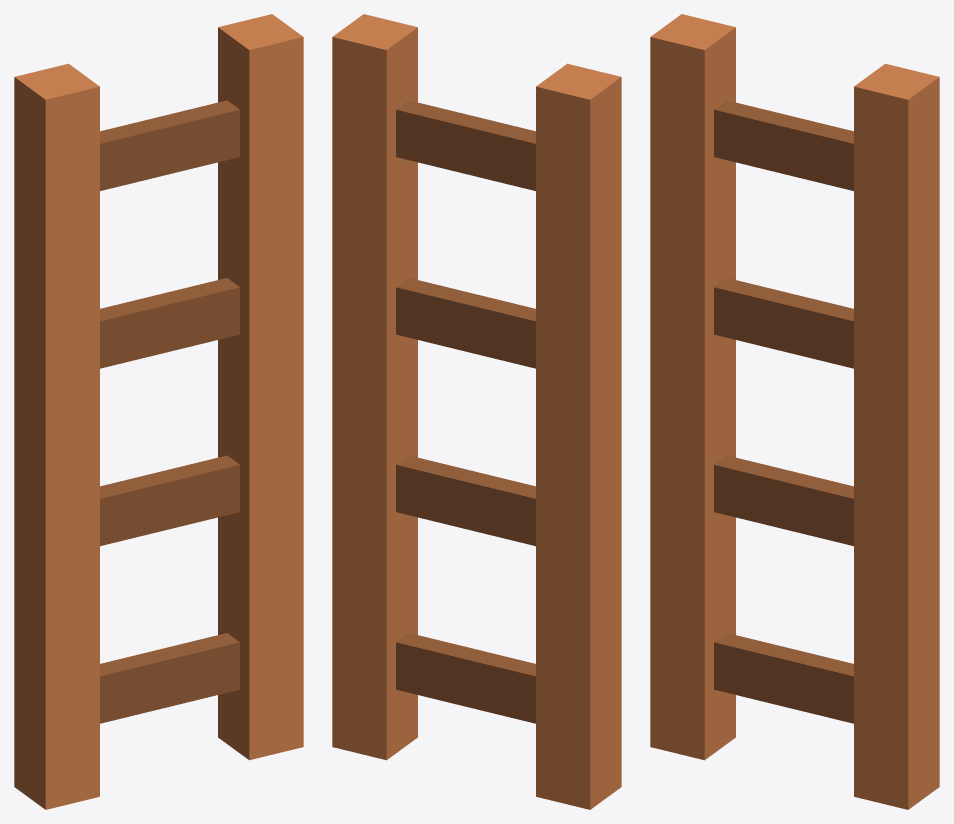
Rendered from ladder.obj.
3 views of the same model, side by side, from view 1: azimuth 30°, elevation 25°; view 2: azimuth 150°, elevation 25°; view 3: azimuth 330°, elevation 25° (orthographic).
Visible parts, largest first — view 1: ladder; view 2: ladder; view 3: ladder.
Boxes of the visible parts, bbox=[...] form: ladder: bbox=[14, 14, 303, 809]; ladder: bbox=[332, 14, 621, 809]; ladder: bbox=[650, 14, 939, 809].
Size of the model in its own units: 0.38 by 1 by 0.08.
